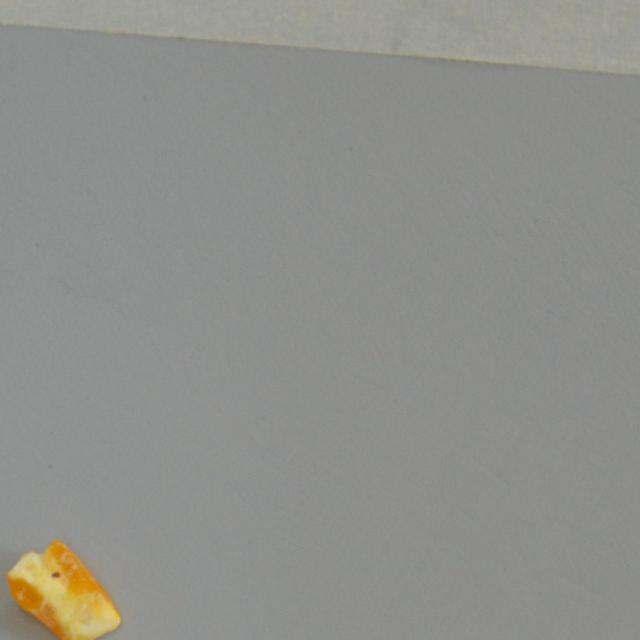punto_negro: (6, 540, 122, 640)
